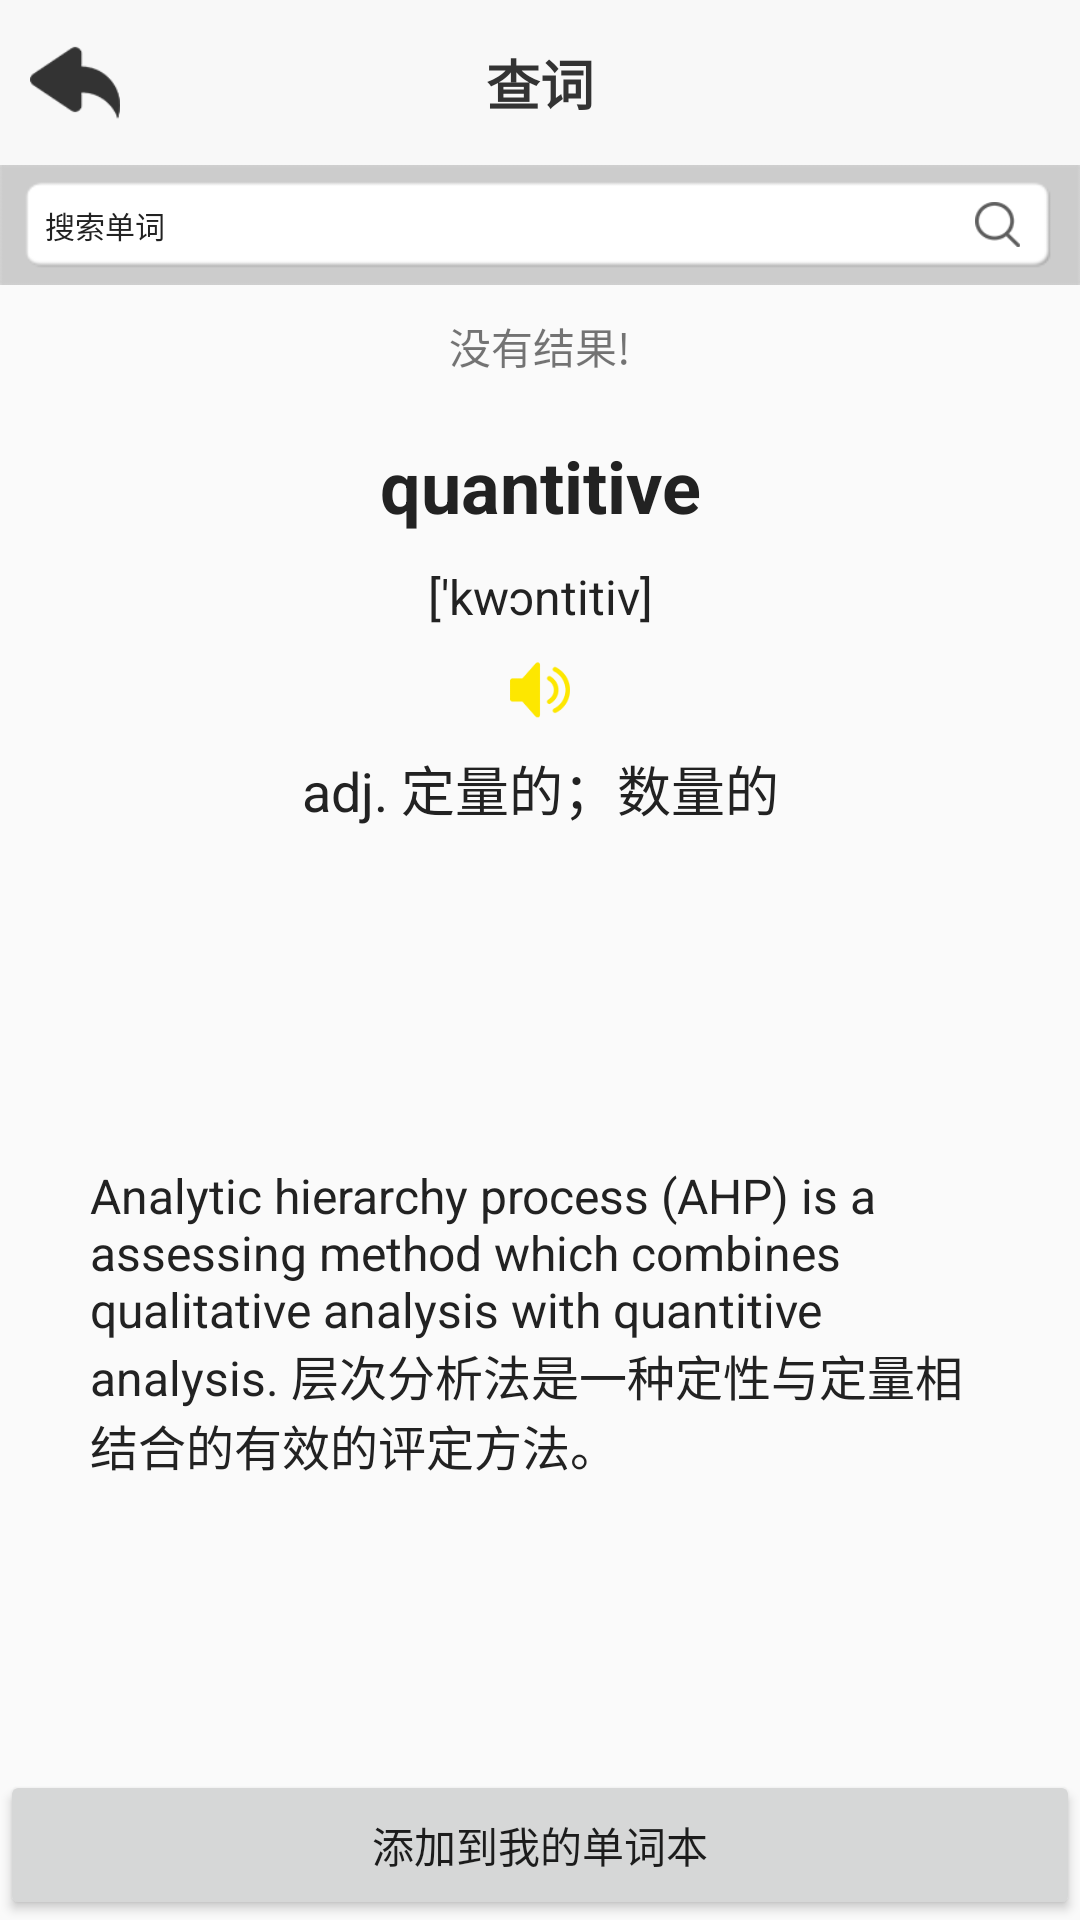

Icons on this 1080x1920 Android screen, each with its box as {"left": x1, "top": y1, "right": x2, "bottom": y2}:
return: {"left": 30, "top": 47, "right": 120, "bottom": 118}
